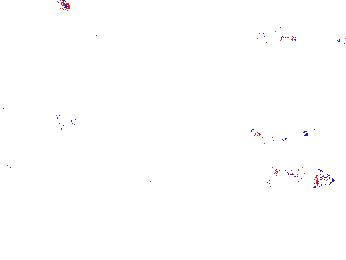X-ray fish: (51, 101, 79, 133)
glassfish: (266, 162, 336, 190)
red belly glassfish: (254, 27, 298, 46), (54, 1, 72, 12), (332, 33, 346, 46)
redtail glassfish: (247, 119, 310, 142), (274, 118, 327, 140)
